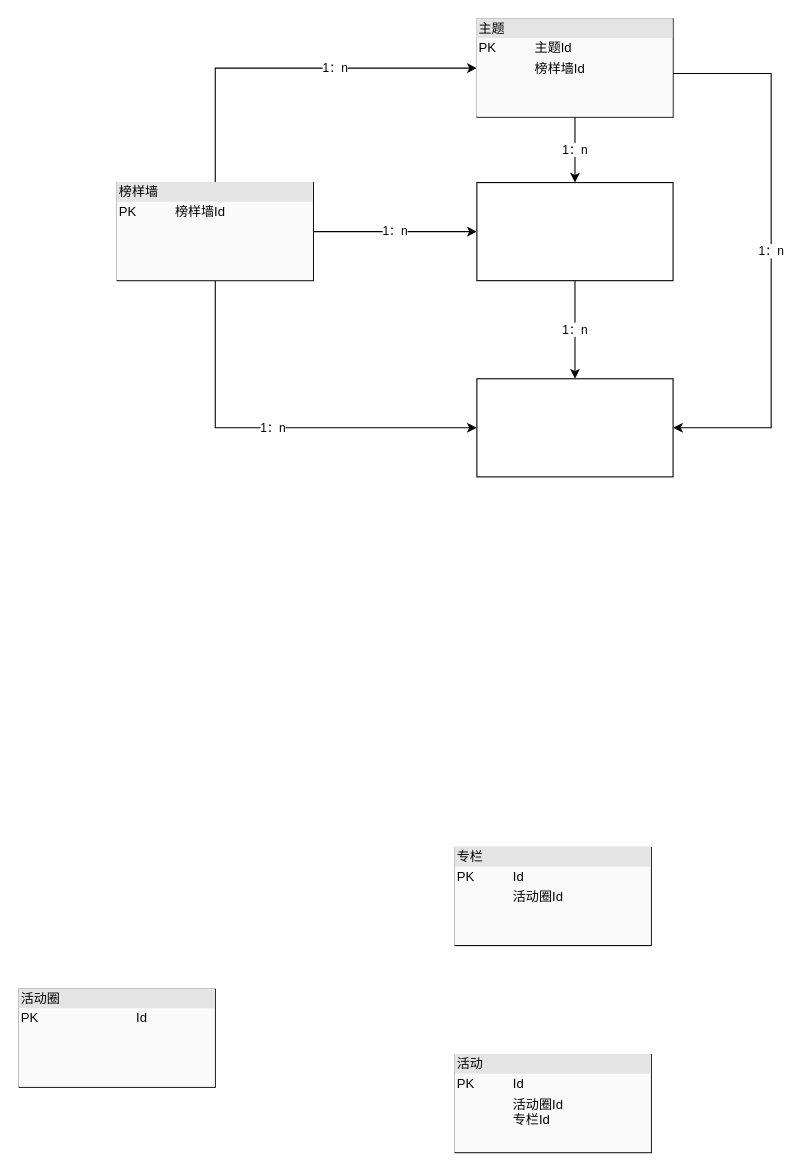
Image size: 802x1172. Some labels were removed from this diagram. The box of each missing label's shape, as (x1, y1, x2, y2) in pixels:
上榜人员 PK Id 榜样墙Id 主题Id 人员分组Id: (476, 378, 673, 477)
上榜人员分组 PK 人员分组Id 榜样墙Id 主题Id: (476, 181, 673, 281)
